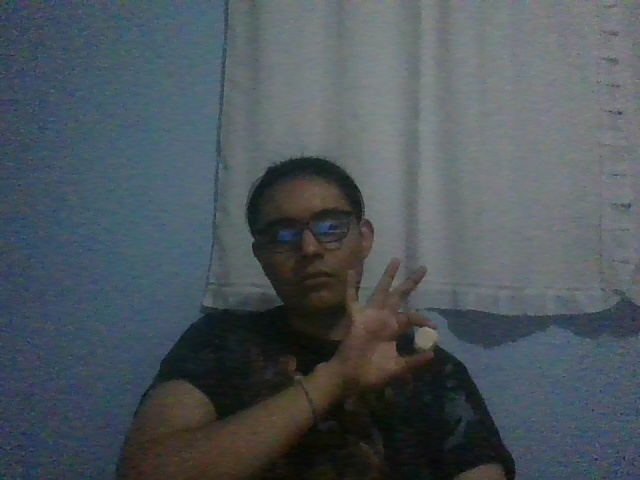goma: (412, 326, 440, 354)
